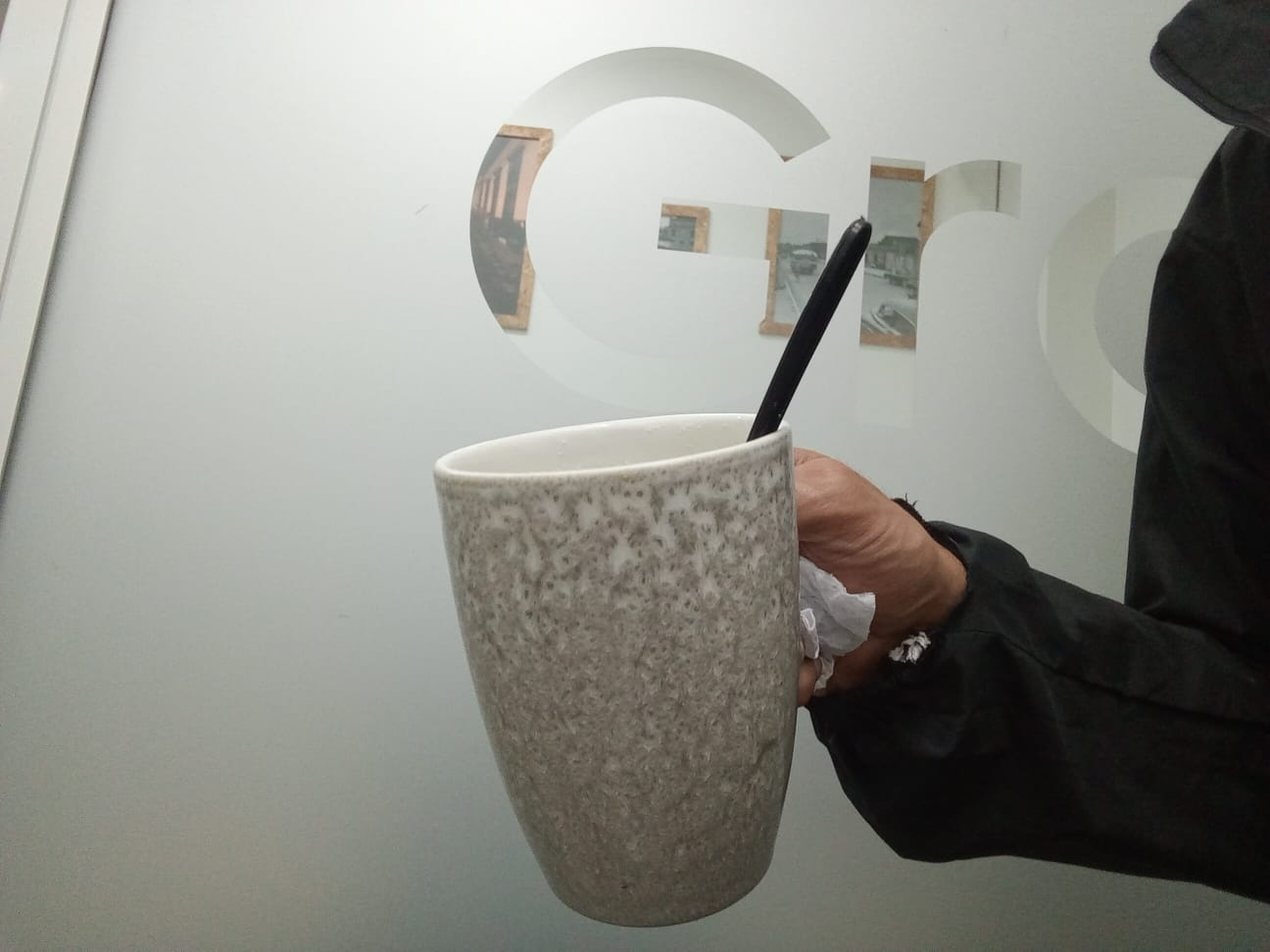Ordinario: (433, 413, 801, 927)
